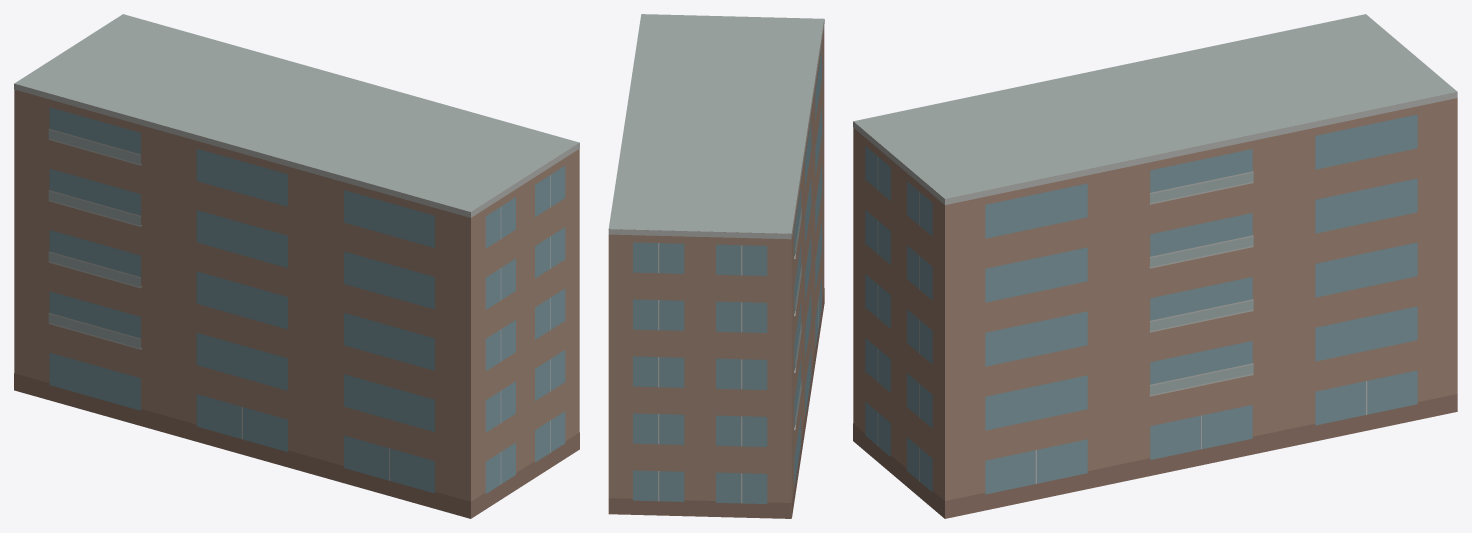
Rendered from survey-upis-32705161.glb.
The picture shows the model from 3 angles, left to right: view 1: azimuth 30°, elevation 25°; view 2: azimuth 150°, elevation 25°; view 3: azimuth 270°, elevation 25°; orthographic projection. The views are drawn at different scales.
Parts seen in each view (by area): view 1: survey-upis-32705161.tmp; view 2: survey-upis-32705161.tmp; view 3: survey-upis-32705161.tmp.
Boxes of the visible parts, x1=… form: survey-upis-32705161.tmp: x1=14, y1=14, x2=579, y2=518; survey-upis-32705161.tmp: x1=608, y1=14, x2=824, y2=518; survey-upis-32705161.tmp: x1=853, y1=14, x2=1457, y2=518.
Size of the model in its own units: 15.87 by 12.78 by 21.9.
